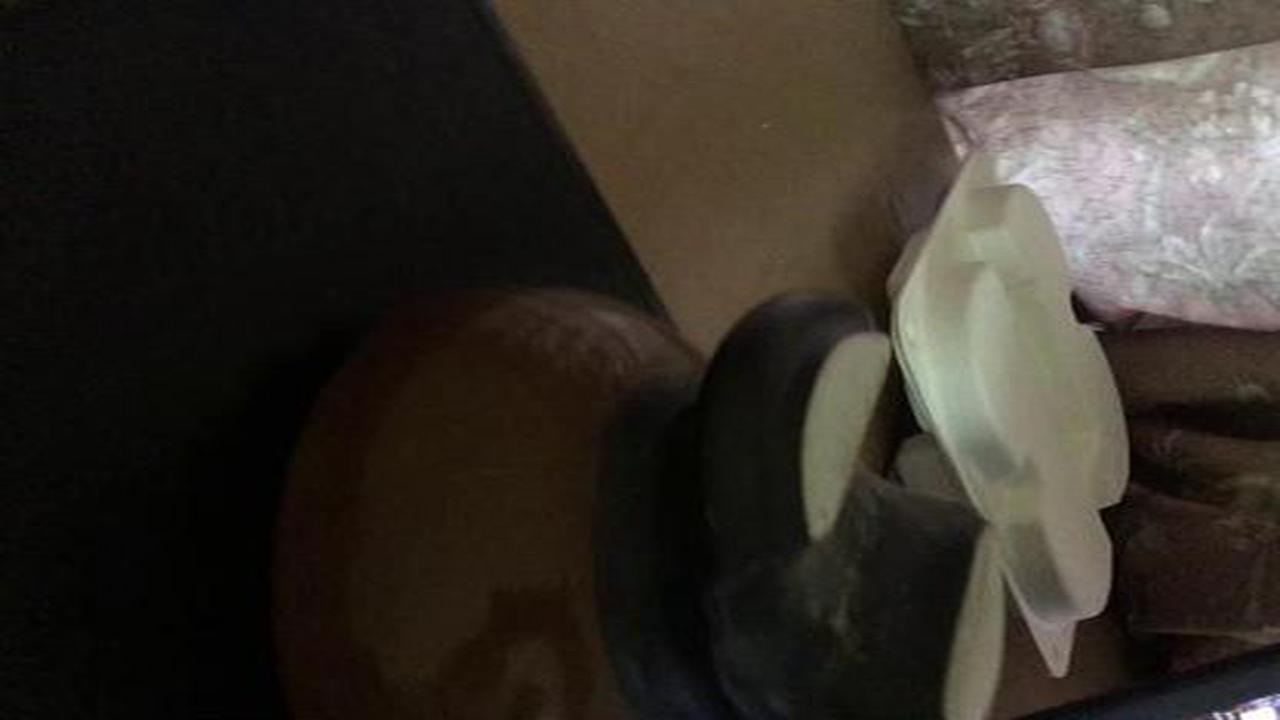insulator_pin: (247, 276, 1031, 712)
